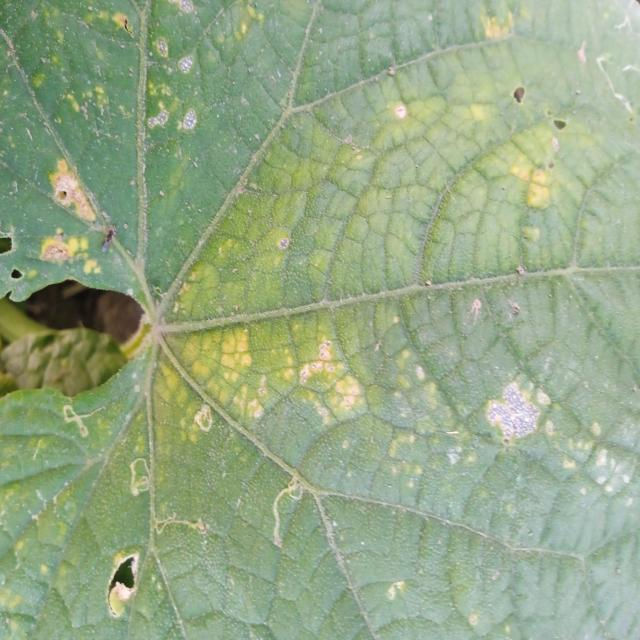cucumber_downy: (14, 22, 638, 619)
